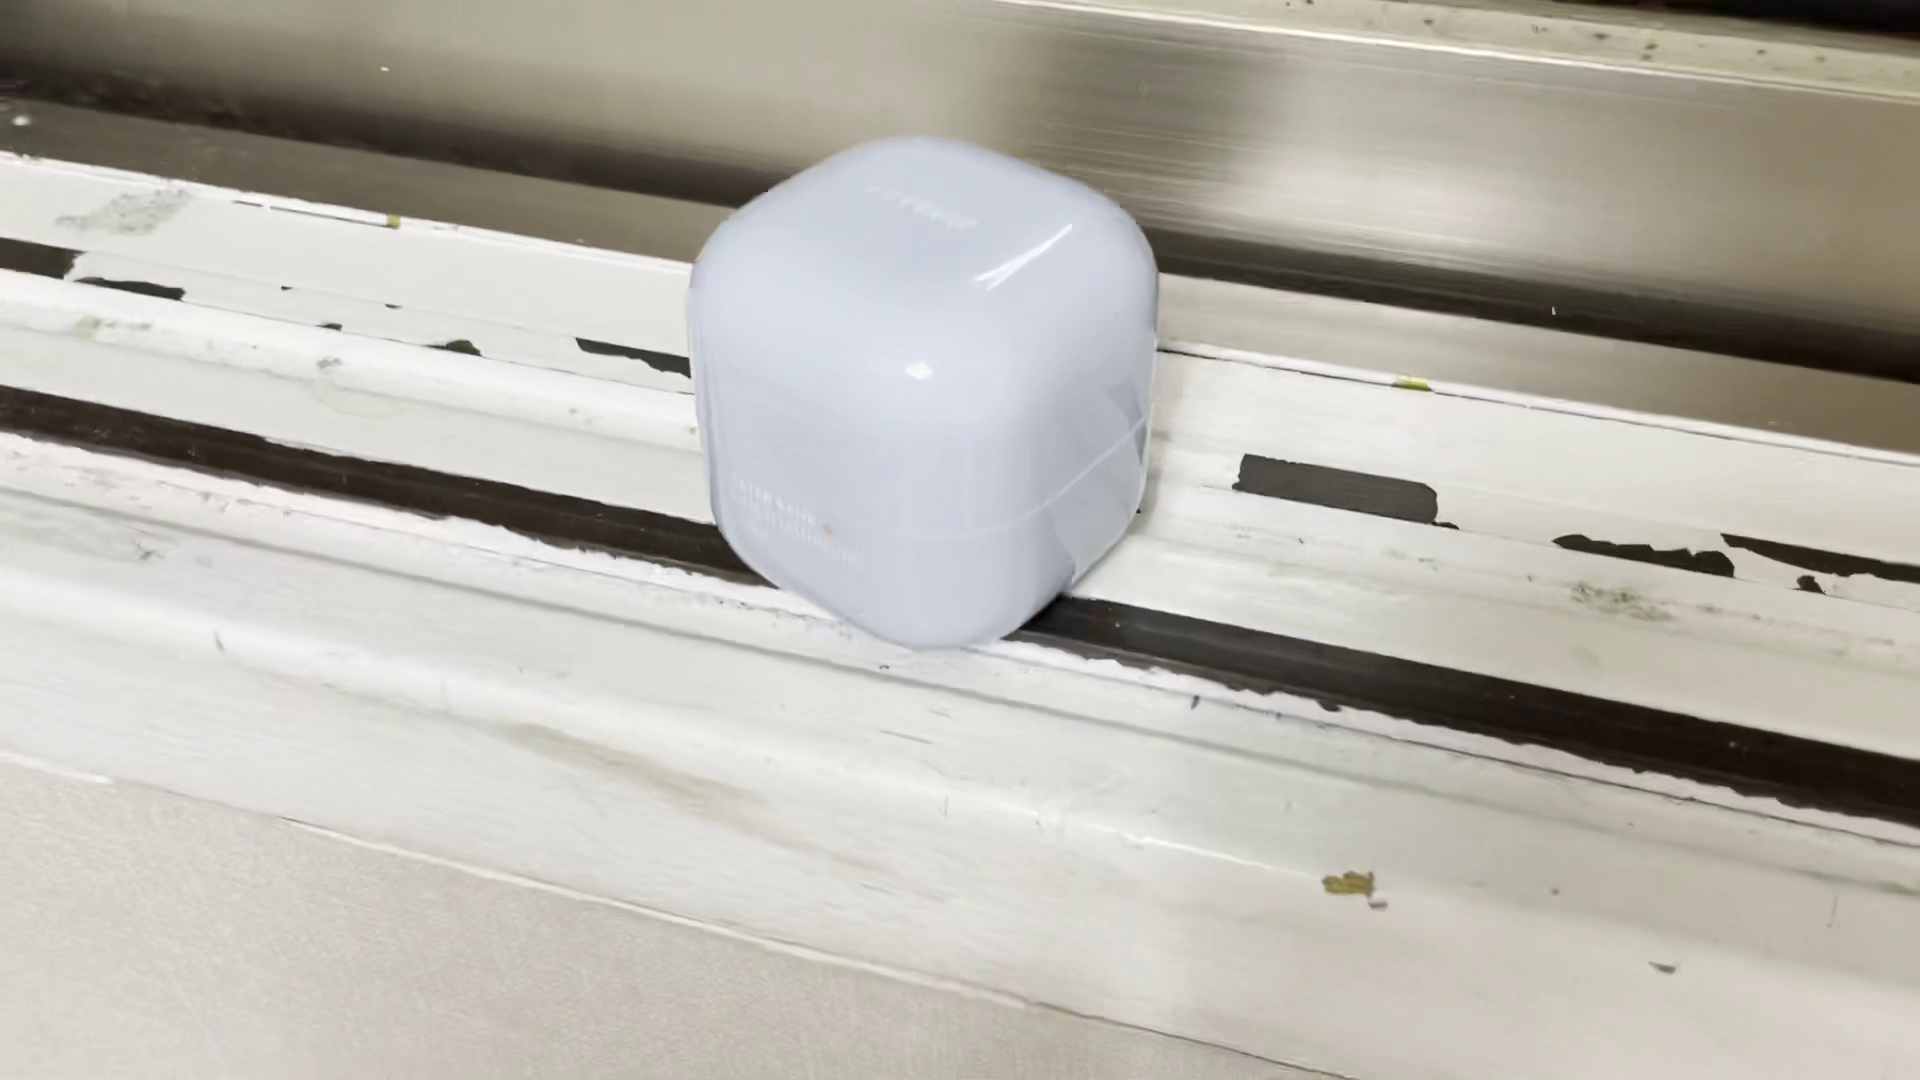cream: (687, 133, 1156, 655)
